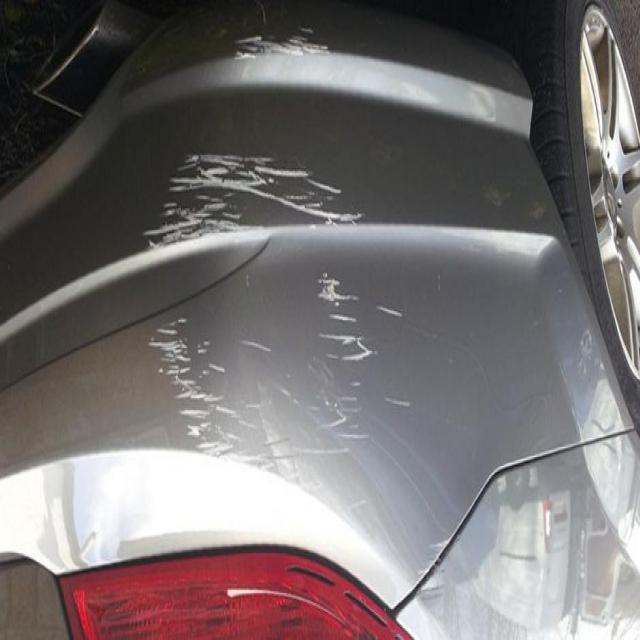scratch: (127, 120, 413, 545)
